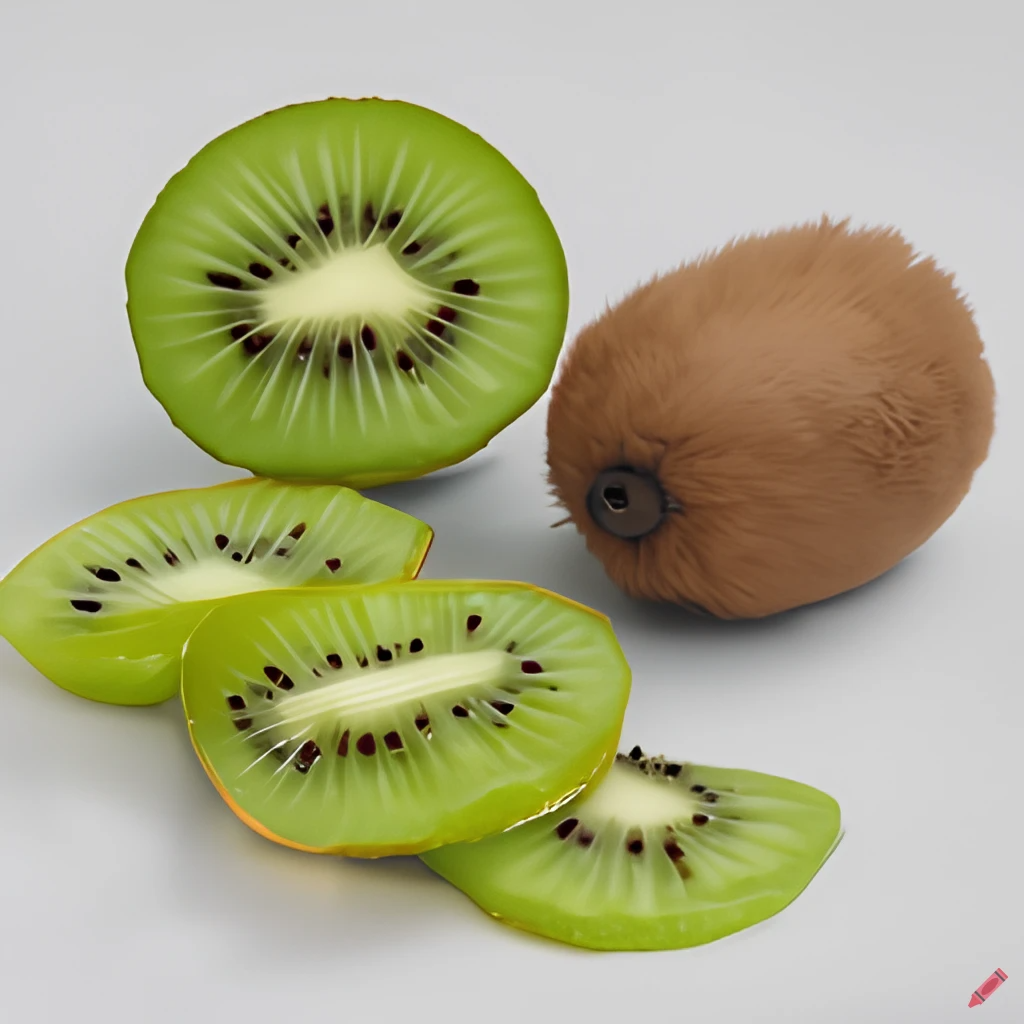Kiwi: (84, 94, 608, 475)
